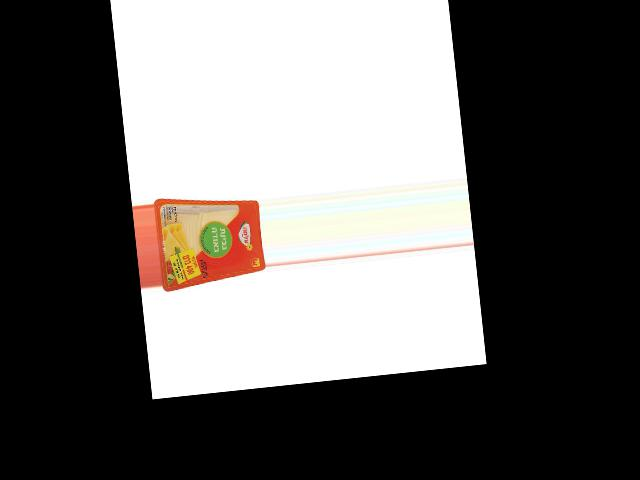cheese: (152, 188, 266, 292)
